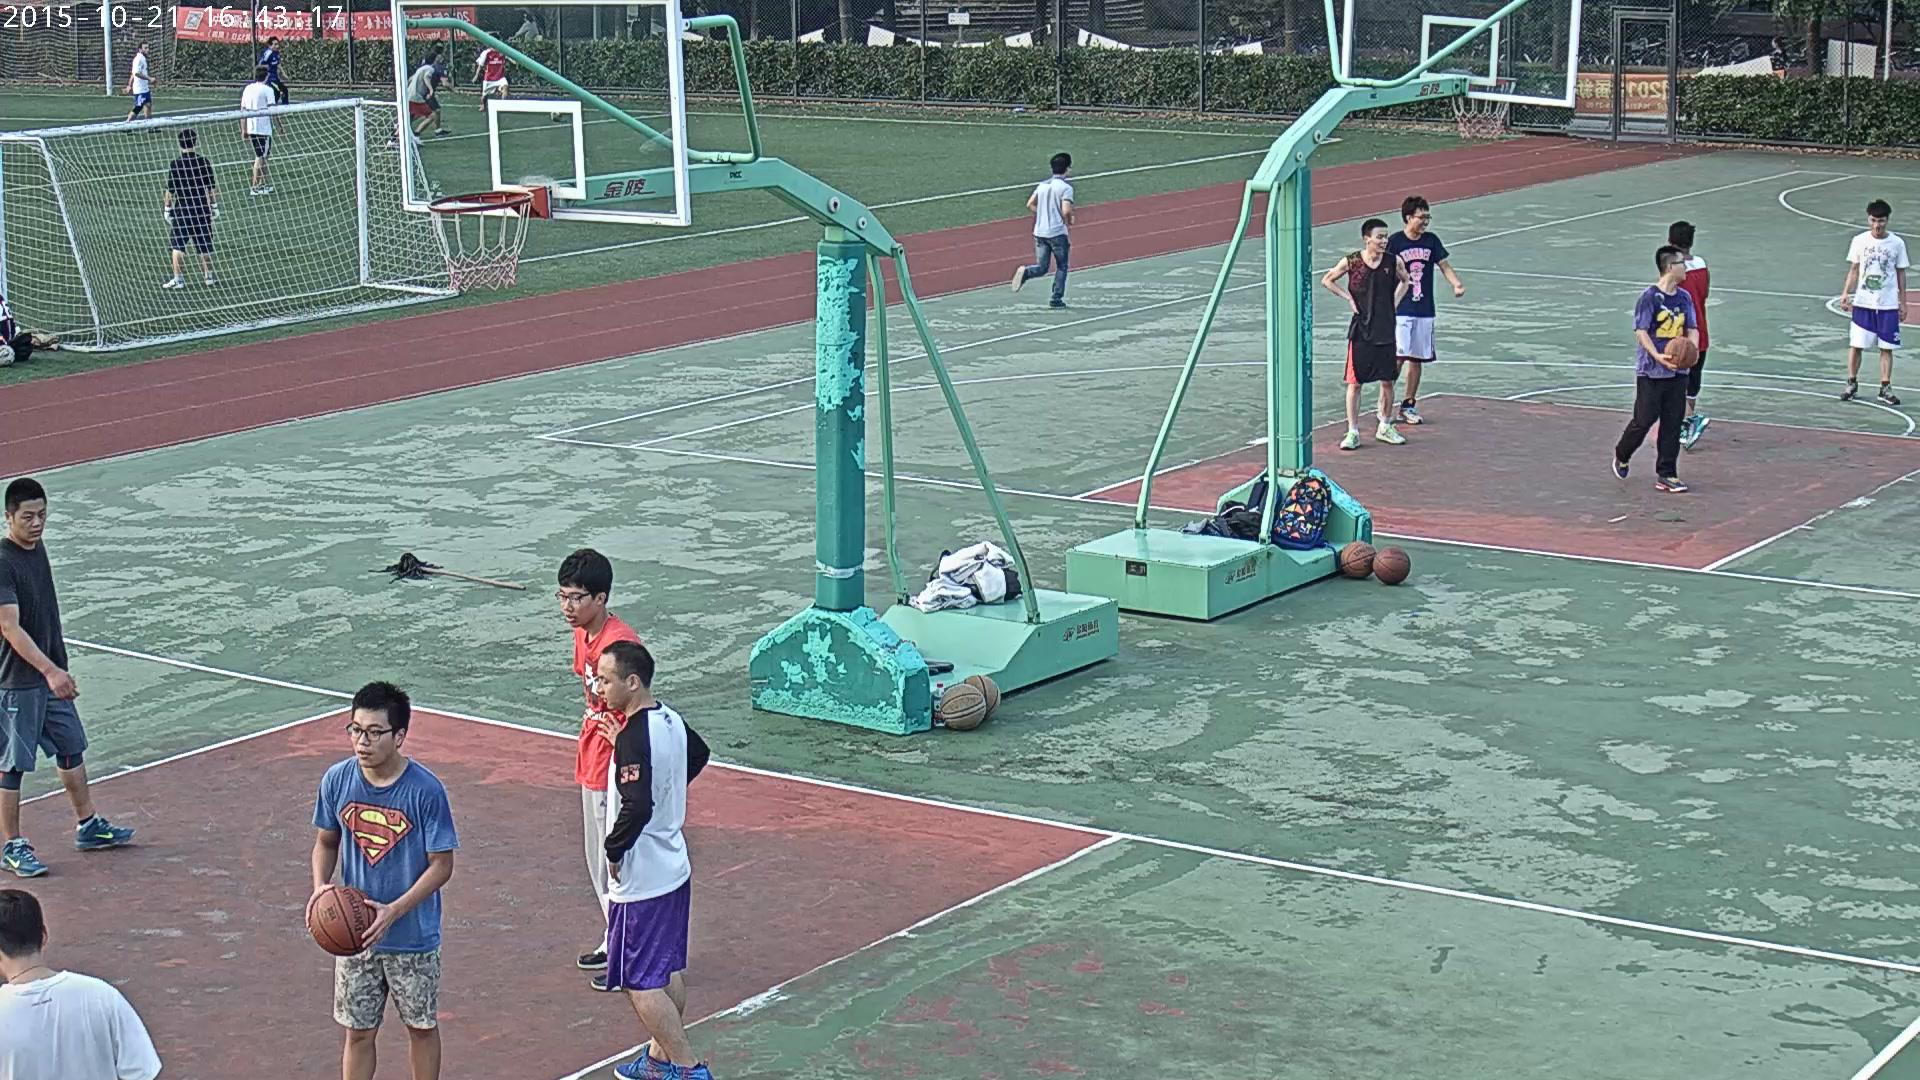face: (351, 706, 393, 766), (596, 652, 629, 709), (559, 583, 595, 627), (13, 498, 46, 541), (1369, 226, 1388, 254), (1411, 209, 1430, 232), (1673, 251, 1686, 281), (1867, 215, 1887, 234), (271, 39, 279, 49), (1068, 164, 1073, 175), (141, 43, 148, 53), (1771, 38, 1776, 47), (433, 56, 437, 65)
